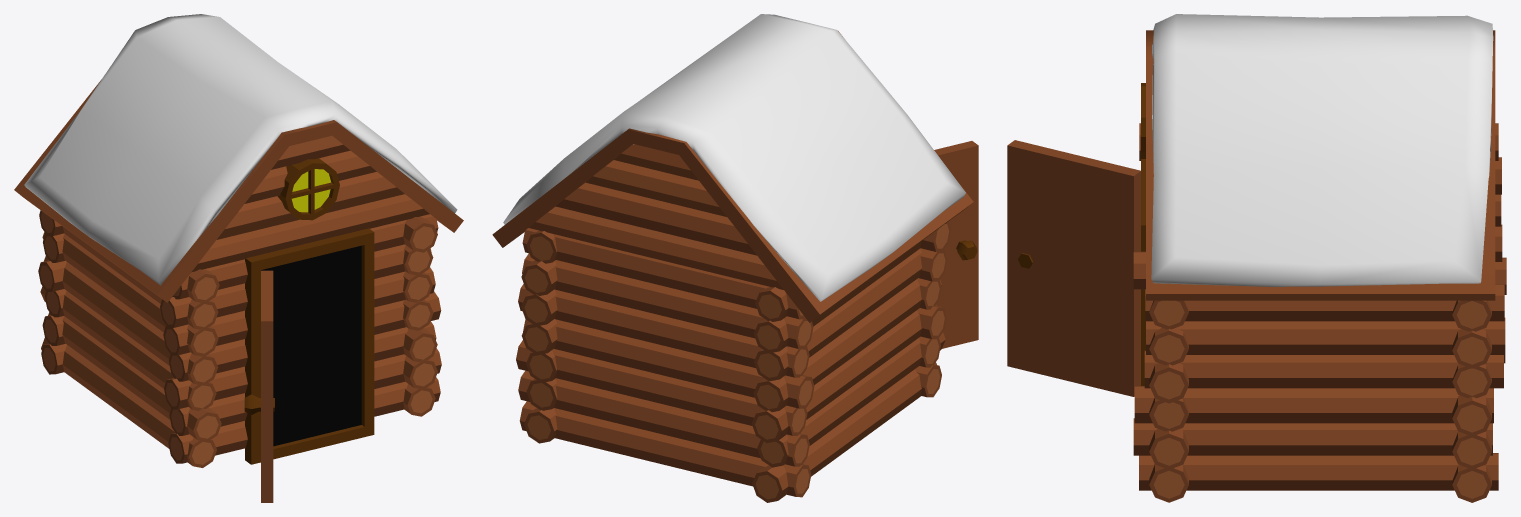
The model's file is house.fbx.
3 views of the same model, side by side, from view 1: azimuth 30°, elevation 25°; view 2: azimuth 150°, elevation 25°; view 3: azimuth 270°, elevation 25° (orthographic). The views are drawn at different scales.
Visible parts, largest first — view 1: roof_snow, door_black, door_frame, roof, log37, log66, log69, log67, log68, log70, log38, door_door (+24 smaller); view 2: roof_snow, roof, log60, log59, log64, log62, log63, log61, log41, door_door, log65, log42 (+22 smaller); view 3: roof_snow, door_door, log54, log52, log56, log55, log53, roof, log57, log61, log46, log48 (+10 smaller).
Part boxes in pixels (left/top/right/bottom): roof_snow: left=24, top=14, right=457, bottom=285; door_black: left=261, top=245, right=361, bottom=446; door_frame: left=245, top=228, right=374, bottom=464; roof: left=14, top=79, right=463, bottom=302; log37: left=191, top=194, right=429, bottom=272; log66: left=41, top=338, right=216, bottom=467; log69: left=44, top=256, right=218, bottom=385; log67: left=48, top=312, right=221, bottom=441; log68: left=40, top=286, right=216, bottom=410; log70: left=42, top=232, right=218, bottom=356; log38: left=217, top=172, right=404, bottom=239; door_door: left=261, top=270, right=273, bottom=502; roof_snow: left=503, top=14, right=965, bottom=301; roof: left=492, top=31, right=973, bottom=322; log60: left=518, top=370, right=809, bottom=466; log59: left=519, top=401, right=811, bottom=497; log64: left=522, top=253, right=813, bottom=348; log62: left=523, top=319, right=814, bottom=408; log63: left=518, top=284, right=809, bottom=377; log61: left=516, top=340, right=807, bottom=435; log41: left=528, top=206, right=783, bottom=289; door_door: left=934, top=141, right=978, bottom=348; log65: left=522, top=228, right=805, bottom=319; log42: left=555, top=182, right=756, bottom=255; roof_snow: left=1151, top=14, right=1493, bottom=286; door_door: left=1007, top=140, right=1140, bottom=396; log54: left=1134, top=386, right=1493, bottom=423; log52: left=1139, top=453, right=1498, bottom=490; log56: left=1146, top=318, right=1505, bottom=354; log55: left=1144, top=350, right=1503, bottom=388; log53: left=1133, top=418, right=1492, bottom=455; roof: left=1146, top=30, right=1495, bottom=300; log57: left=1145, top=284, right=1504, bottom=321; log61: left=1452, top=395, right=1491, bottom=436; log46: left=1149, top=428, right=1188, bottom=469; log48: left=1149, top=363, right=1188, bottom=403.
Bounding box in the file's own units: 28.88 × 30.01 × 33.53.
